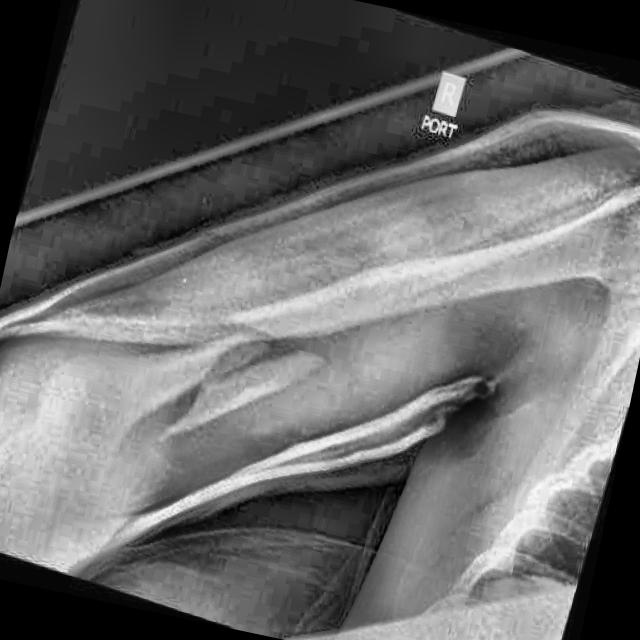humerus: (135, 237, 362, 472)
